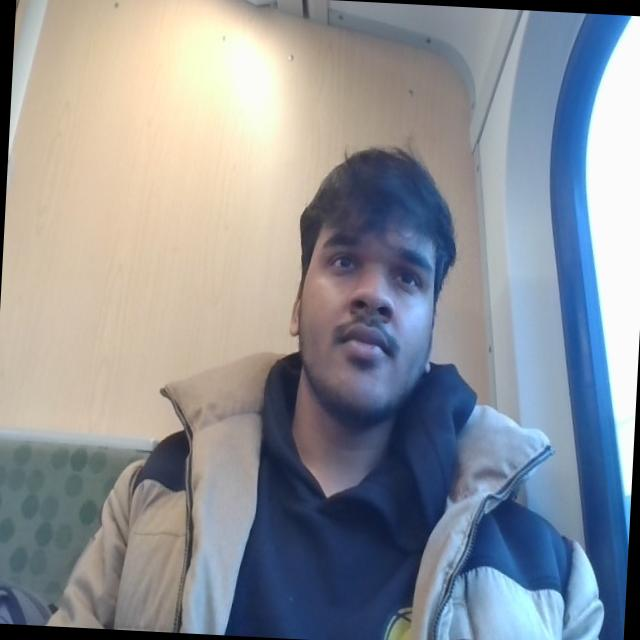no hat: (291, 121, 465, 227)
